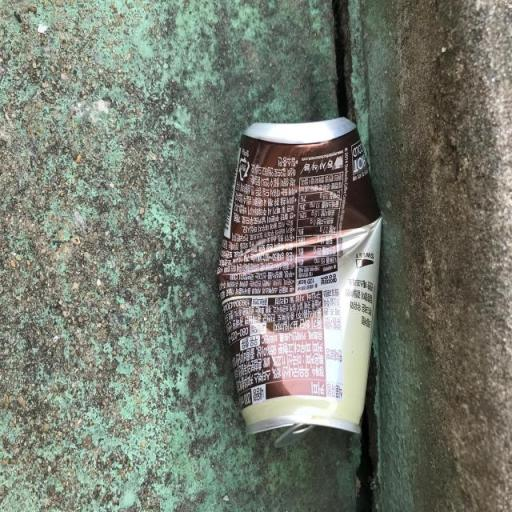metal: (200, 100, 402, 468)
